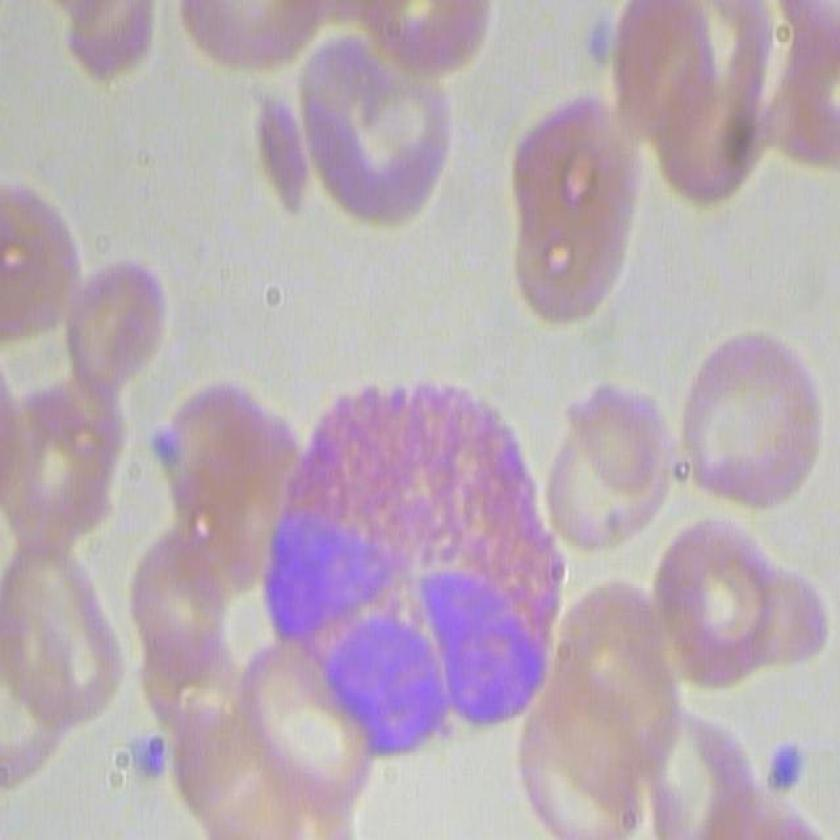eosinophil: (249, 373, 572, 785)
